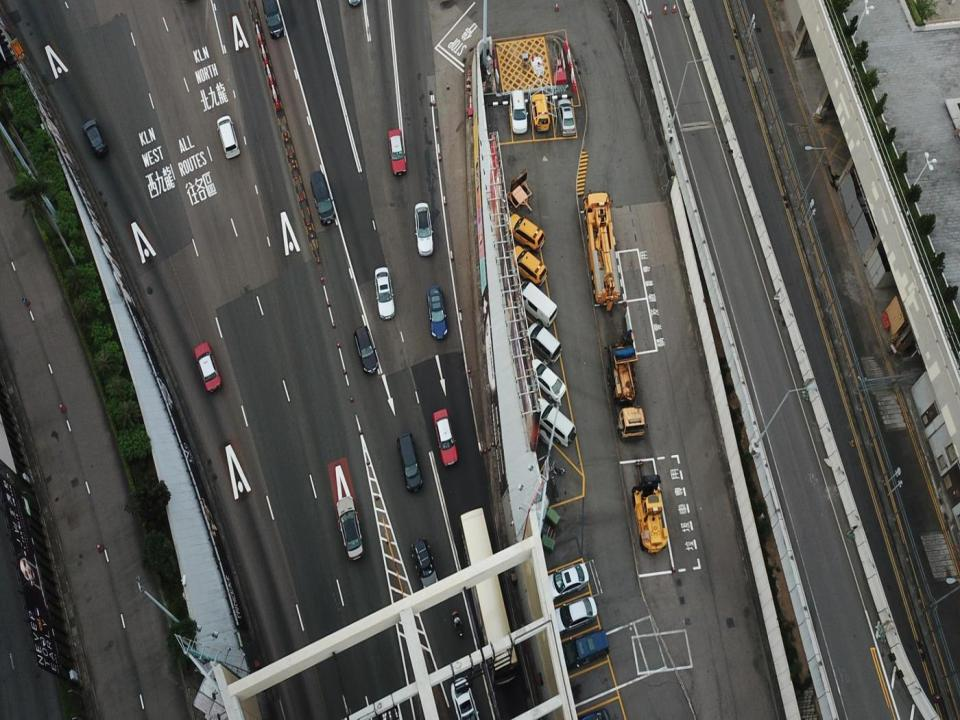bus: (459, 507, 518, 687)
car: (336, 495, 364, 561), (550, 597, 597, 635), (526, 358, 566, 401), (543, 563, 589, 598), (434, 408, 458, 466), (194, 342, 220, 392), (451, 676, 480, 719), (374, 266, 394, 320), (427, 285, 447, 338), (415, 202, 433, 257), (388, 129, 407, 175), (557, 98, 575, 136)
truck: (582, 191, 620, 312), (604, 329, 645, 441)
van: (532, 398, 576, 448), (514, 281, 558, 327), (562, 628, 609, 668), (507, 245, 548, 288), (505, 213, 546, 252), (524, 322, 561, 364), (411, 537, 438, 594), (397, 433, 422, 493), (310, 170, 335, 225), (355, 326, 377, 374), (217, 115, 240, 159), (82, 119, 107, 156), (262, 0, 284, 38), (509, 90, 528, 134), (531, 92, 550, 131)
